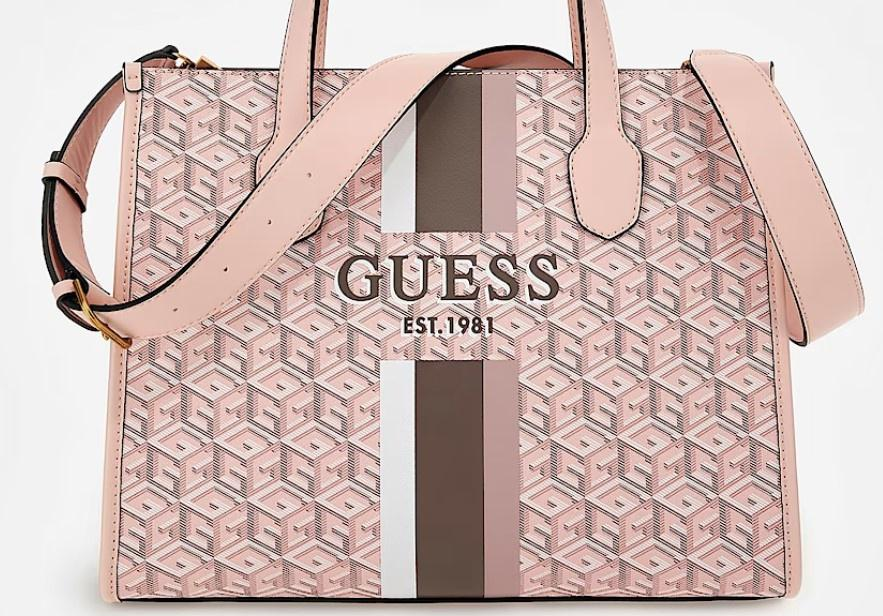GUESS: (334, 252, 559, 304)
